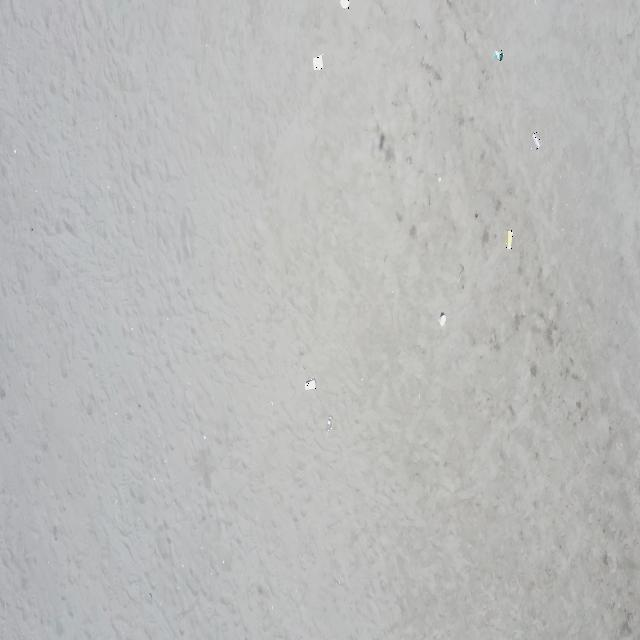take-away-containers: (313, 54, 324, 71), (340, 0, 350, 9)
takeaway-cup: (531, 132, 542, 150), (506, 229, 513, 250), (326, 416, 333, 436), (305, 379, 316, 390), (494, 50, 504, 62), (439, 314, 446, 327)
